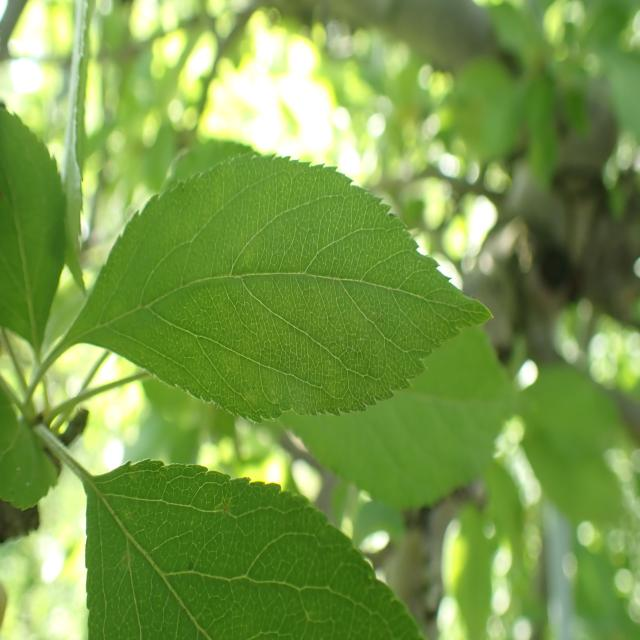healthy: (67, 151, 496, 424), (85, 457, 427, 640), (0, 102, 82, 350)
